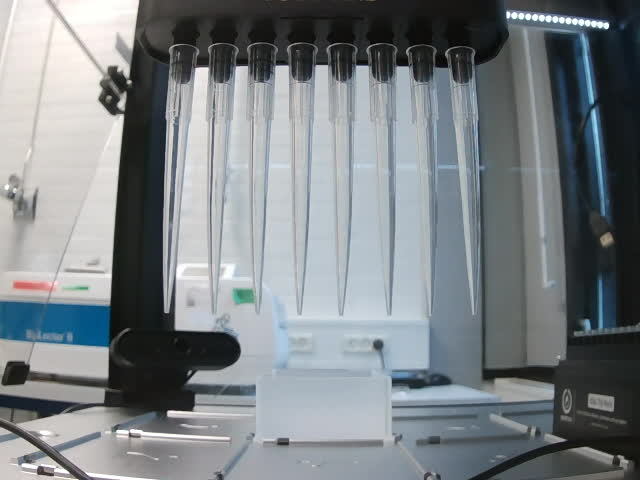pipet: (443, 45, 484, 316), (161, 43, 200, 313), (404, 43, 439, 318), (325, 43, 359, 316), (366, 42, 399, 317), (285, 43, 318, 317), (245, 44, 278, 315), (206, 43, 239, 313)
